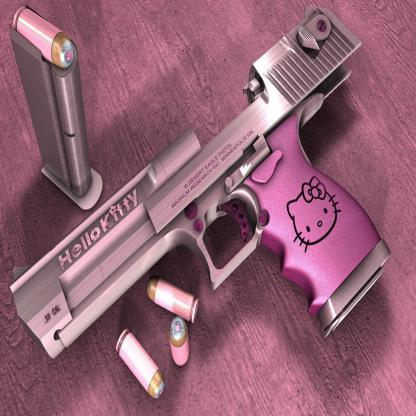Pistol: (8, 2, 390, 358)
